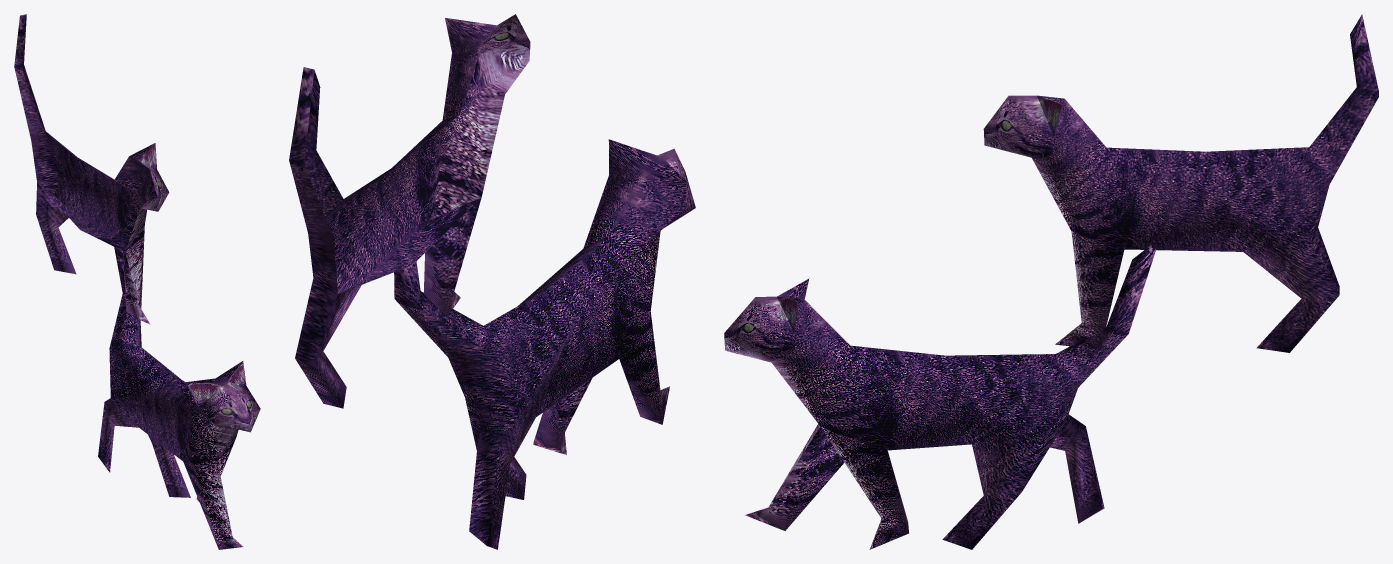
The model's file is gatita.glb.
The picture shows the model from 3 angles, left to right: view 1: azimuth 30°, elevation 25°; view 2: azimuth 150°, elevation 25°; view 3: azimuth 270°, elevation 25°; orthographic projection. The views are drawn at different scales.
Visible parts, largest first — view 1: Cube.001, Cube; view 2: Cube.001, Cube; view 3: Cube.001, Cube.
Part boxes in pixels (box(x1,y1,x2,y2)): Cube.001: box(98, 229, 260, 549); Cube: box(14, 14, 169, 324); Cube.001: box(394, 139, 695, 549); Cube: box(289, 14, 530, 408); Cube.001: box(724, 244, 1155, 549); Cube: box(983, 14, 1378, 352).
Size of the model in its own units: 0.7205 by 3.76 by 4.27.
Materials: 2 (2 with a texture image).
